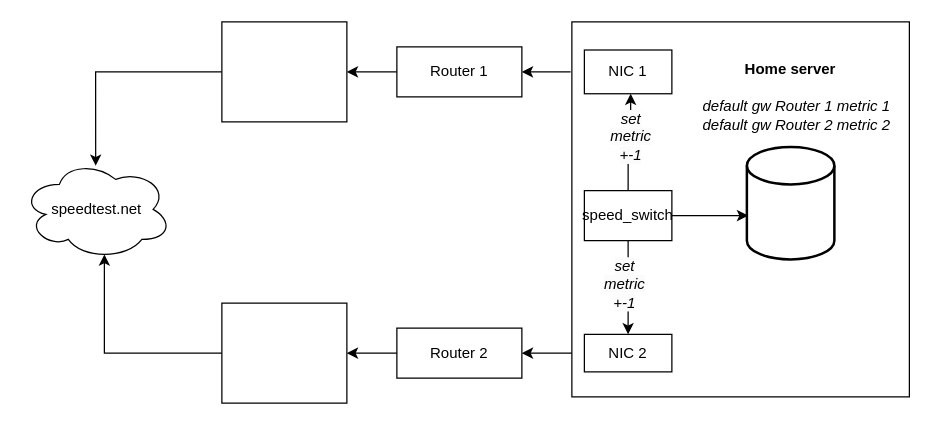
Image size: 931x425. Some labels were removed from this diagram. The box of each missing label's shape, as (x1, y1, x2, y2) in pixels:
Provider 1: (221, 21, 347, 122)
Provider 2: (221, 302, 347, 403)
speed history: (745, 145, 835, 260)
